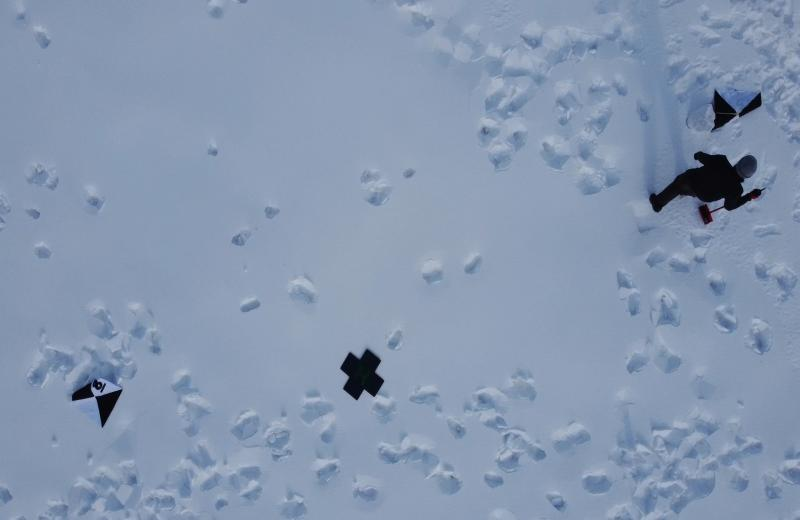Cross: (340, 348, 385, 402)
